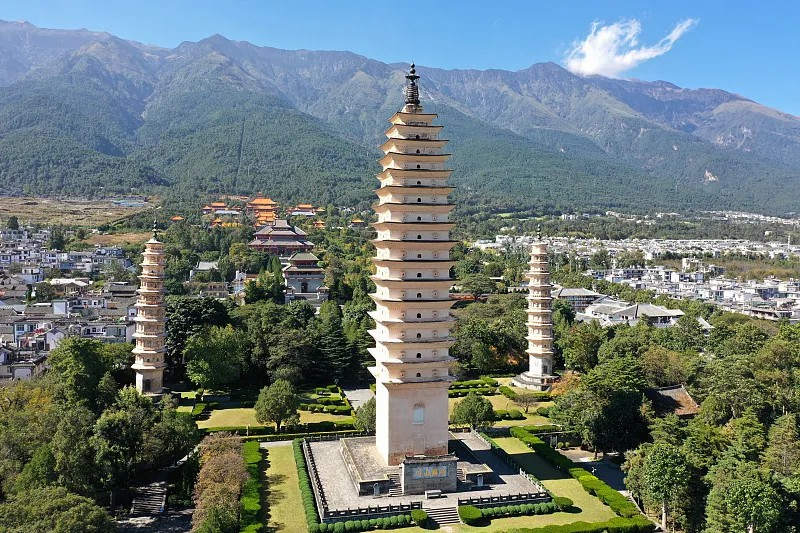ThreePagoda: (367, 61, 458, 468)
